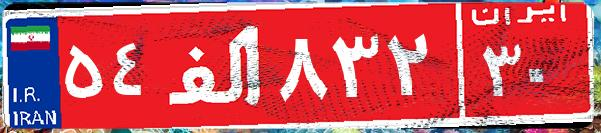0: (525, 38, 570, 115)
2: (385, 28, 445, 110)
3: (330, 28, 385, 110), (475, 38, 525, 113)
4: (110, 28, 158, 105)
5: (57, 26, 110, 107)
8: (273, 28, 330, 110)
الف: (158, 15, 273, 115)
